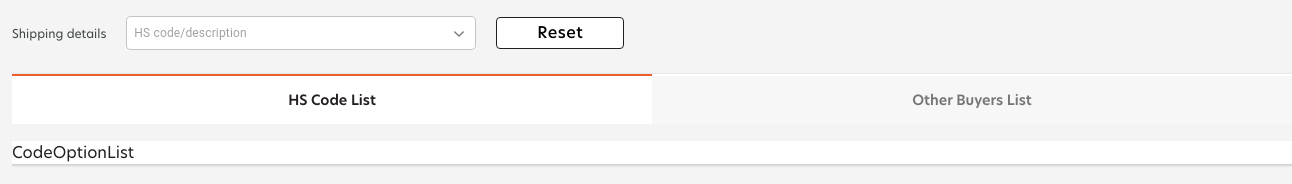
it: detail › should render buyer content when click
Step 1. Click the text with class "title" → (972, 98), box [652, 74, 1291, 124]
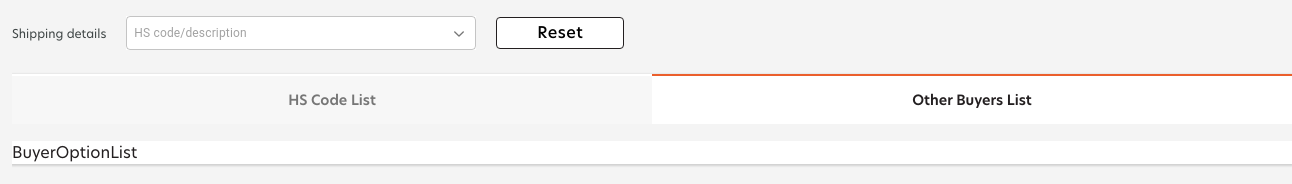
Result: the text "BuyerOptionList" is shown at [12, 140, 1291, 164]
